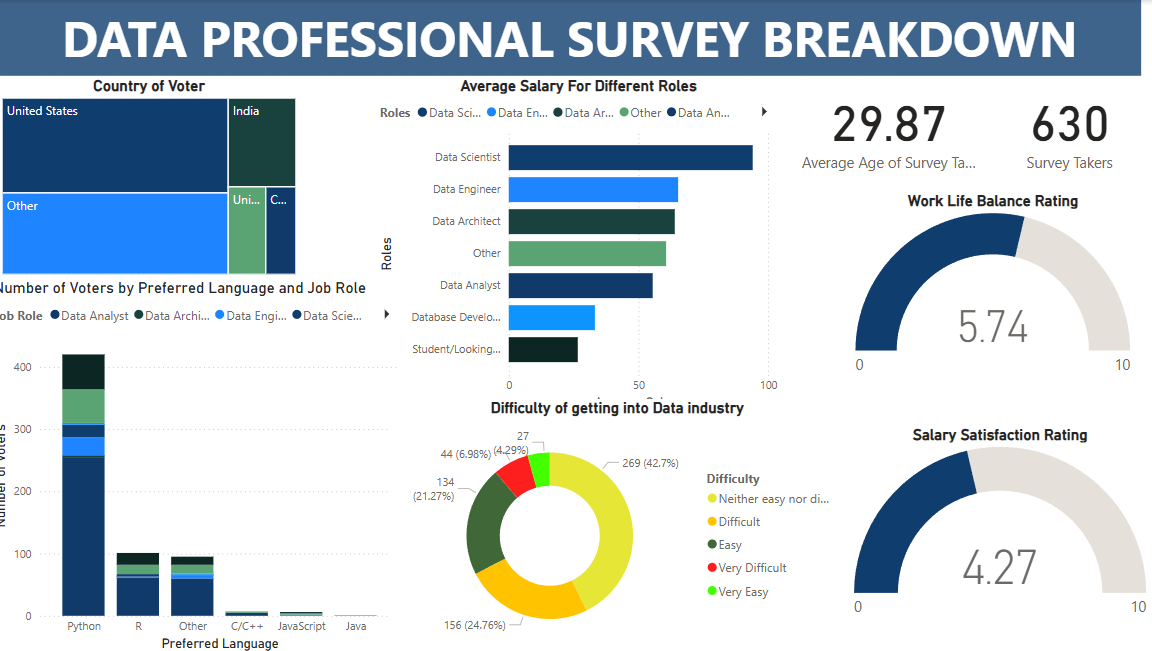

Layout of this report page (visuals, bound fields, positions):
{"tool":"powerbi","page":{"name":"Page 1","canvas":[1280,720],"ordinal":0},"visuals":[{"type":"textbox","box":[9.4,0,1255.2,83.1],"z":0},{"type":"card","fields":{"Values":["Count(Data Professional Survey.Unique ID)"]},"box":[1092.3,83.1,188.1,111.3],"z":1000},{"type":"card","fields":{"Values":["Avg(Data Professional Survey.Q10 - Current Age)"]},"box":[883.8,83.1,208.4,111.3],"z":2000},{"type":"barChart","title":"Average Salary For Different Roles","fields":{"Category":["Data Professional Survey.Q1 - Which Title Best Fits your Current Role?.1"],"Y":["Avg(Data Professional Survey.Average Salary)"],"Series":["Data Professional Survey.Q1 - Which Title Best Fits your Current Role?.1"]},"box":[424.7,83.1,446.6,371.4],"z":3000},{"type":"columnChart","fields":{"Category":["Data Professional Survey.Q5 - Favorite Programming Language.1"],"Y":["Count(Data Professional Survey.Unique ID)"],"Series":["Data Professional Survey.Q1 - Which Title Best Fits your Current Role?.1"]},"box":[0,305.6,456,413.7],"z":4000},{"type":"treemap","title":"Country of Voter","fields":{"Values":["CountNonNull(Data Professional Survey.Q11 - Which Country do you live in?.1)"],"Group":["Data Professional Survey.Q11 - Which Country do you live in?.1"]},"box":[9.4,83.1,332.2,222.5],"z":5000},{"type":"gauge","title":"Work Life Balance Rating","fields":{"Y":["Avg(Data Professional Survey.Q6 - How Happy are you in your Current Position with the following? (Work/Life Balance))"],"MinValue":["Min(Data Professional Survey.Q6 - How Happy are you in your Current Position with the following? (Work/Life Balance))"],"MaxValue":["Max(Data Professional Survey.Q6 - How Happy are you in your Current Position with the following? (Work/Life Balance))1"]},"box":[940.3,210,324.4,211.6],"z":6000},{"type":"gauge","title":"Salary Satisfaction Rating","fields":{"Y":["Avg(Data Professional Survey.Q6 - How Happy are you in your Current Position with the following? (Salary))"],"MinValue":["Min(Data Professional Survey.Q6 - How Happy are you in your Current Position with the following? (Salary))"],"MaxValue":["Max(Data Professional Survey.Q6 - How Happy are you in your Current Position with the following? (Salary))"]},"box":[940.3,467,340.1,221],"z":7000},{"type":"donutChart","title":"Difficulty of getting into Data industry","fields":{"Category":["Data Professional Survey.Q7 - How difficult was it for you to break into Data?"],"Y":["CountNonNull(Data Professional Survey.Q7 - How difficult was it for you to break into Data?)"]},"box":[438.8,437.2,501.5,282.1],"z":8000}]}

Visuals, with their boxes in screenshot pixels (x1, y1, x2, y2), scaled from the page's 1280x720 canvas onto the 1152x651 screenshot:
textbox: box(8, 0, 1138, 75)
card - Count(Data Professional Survey.Unique ID): box(983, 75, 1151, 176)
card - Avg(Data Professional Survey.Q10 - Current Age): box(795, 75, 983, 176)
"Average Salary For Different Roles" barChart: box(382, 75, 784, 411)
columnChart - Data Professional Survey.Q5 - Favorite Programming Language.1 x Count(Data Professional Survey.Unique ID): box(0, 276, 410, 650)
"Country of Voter" treemap: box(8, 75, 307, 276)
"Work Life Balance Rating" gauge: box(846, 190, 1138, 381)
"Salary Satisfaction Rating" gauge: box(846, 422, 1151, 622)
"Difficulty of getting into Data industry" donutChart: box(395, 395, 846, 650)
